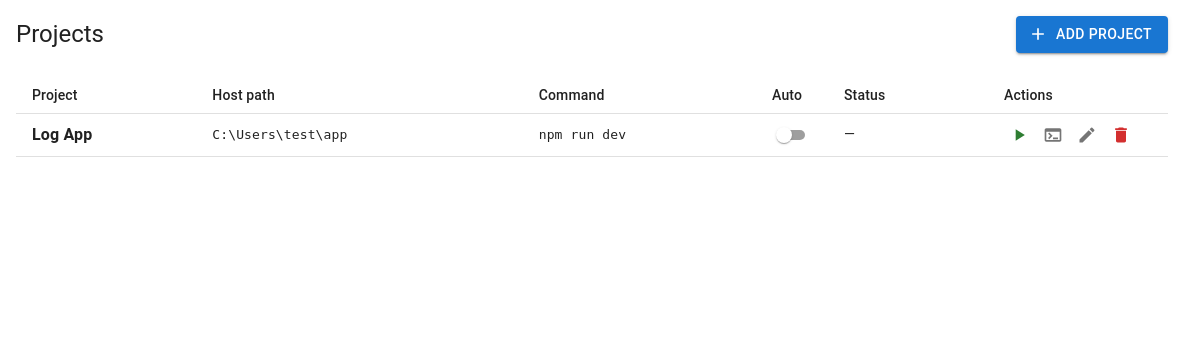
Test case: ProjectRegistryPage › expands and collapses inline live logs for a project
Expected: the text "Log App" is shown, x1=32 y1=124 x2=92 y2=144
Click the button named "view logs for log app" at (1053, 134), box x1=1038 y1=120 x2=1068 y2=150
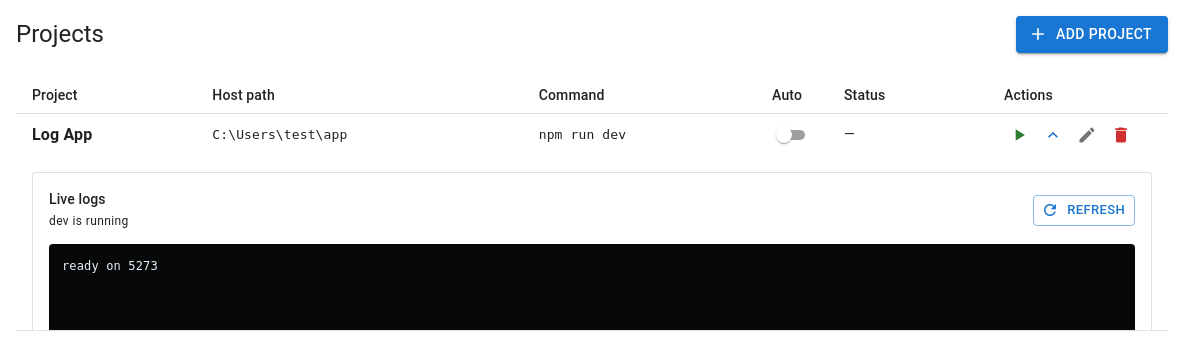
Now the heading "Live logs" is shown, box x1=49 y1=190 x2=106 y2=206
Now the text "ready on 5273" is shown, box x1=62 y1=259 x2=158 y2=273
Click the button named "hide logs for log app" at (1053, 134), box x1=1038 y1=120 x2=1068 y2=150
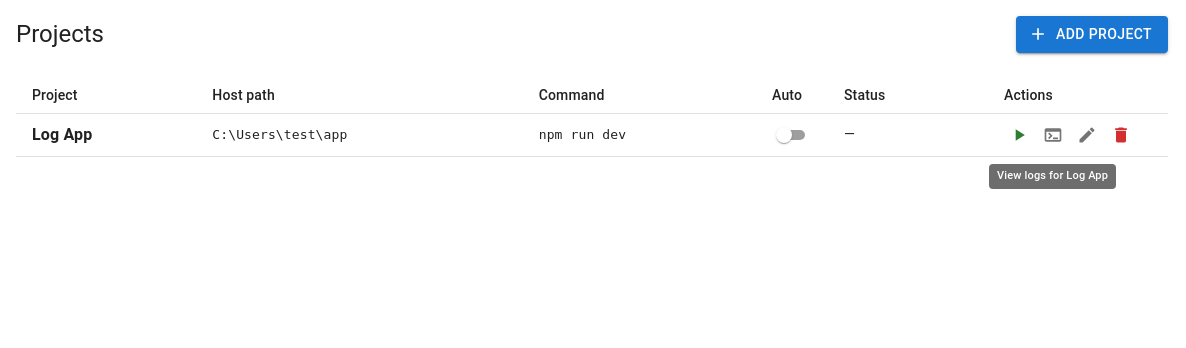
Now the text "ready on 5273" is gone
